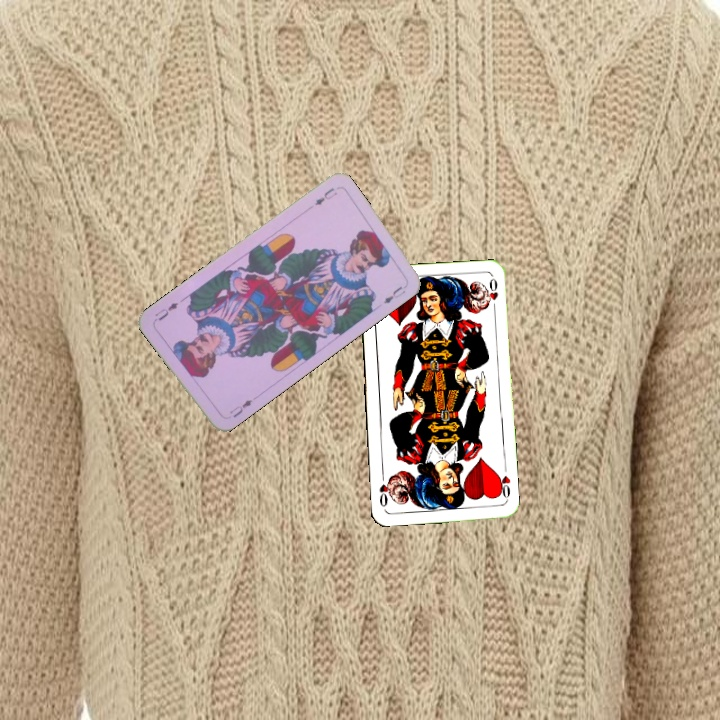EU: (225, 395, 255, 421), (310, 184, 340, 208)
HO: (493, 470, 513, 503)
